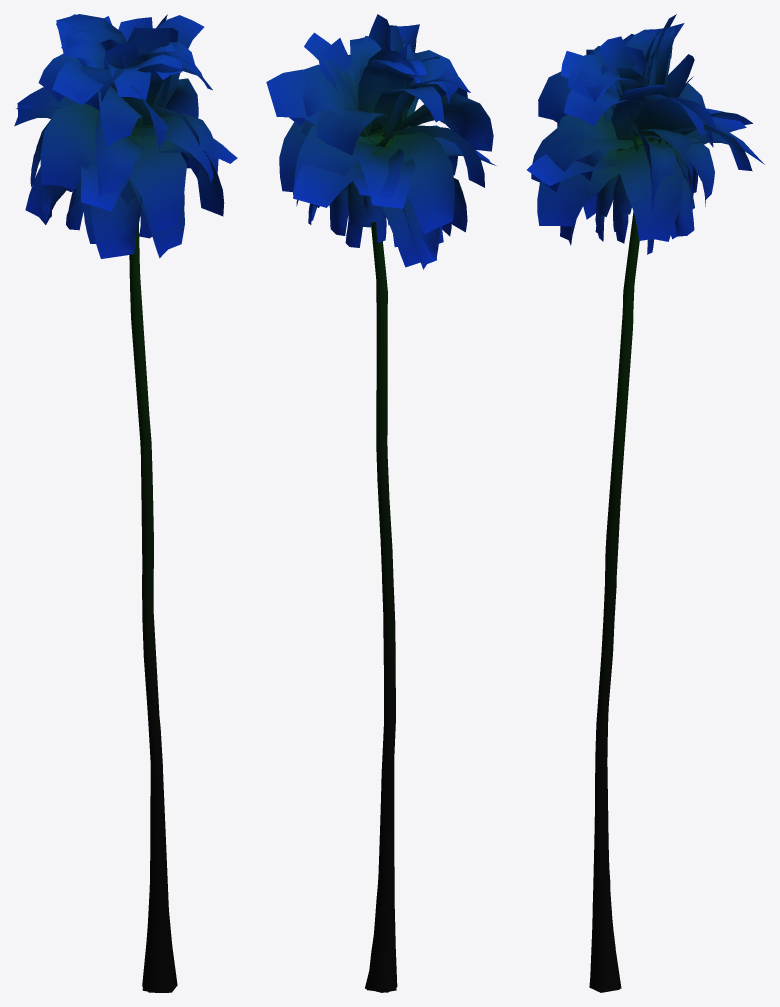
The model's file is MSH_Mexican_Palm_A.FBX.
The picture shows the model from 3 angles, left to right: view 1: azimuth 30°, elevation 25°; view 2: azimuth 150°, elevation 25°; view 3: azimuth 270°, elevation 25°; orthographic projection. The views are drawn at different scales.
Visible parts, largest first — view 1: MexicanFanPalm_A_LOD0_GEO, MexicanFanPalm_A_LOD2_GEO, MexicanFanPalm_A_LOD1_GEO; view 2: MexicanFanPalm_A_LOD0_GEO, MexicanFanPalm_A_LOD2_GEO, MexicanFanPalm_A_LOD1_GEO; view 3: MexicanFanPalm_A_LOD0_GEO, MexicanFanPalm_A_LOD2_GEO, MexicanFanPalm_A_LOD1_GEO.
Boxes of the visible parts, x1,y1,x2,y2 form: MexicanFanPalm_A_LOD0_GEO: (14,14,237,992); MexicanFanPalm_A_LOD2_GEO: (30,14,223,992); MexicanFanPalm_A_LOD1_GEO: (130,226,172,981); MexicanFanPalm_A_LOD0_GEO: (266,14,496,992); MexicanFanPalm_A_LOD2_GEO: (266,25,491,992); MexicanFanPalm_A_LOD1_GEO: (367,223,395,992); MexicanFanPalm_A_LOD0_GEO: (527,14,763,992); MexicanFanPalm_A_LOD2_GEO: (537,17,764,992); MexicanFanPalm_A_LOD1_GEO: (592,144,639,988).
Bounding box in the file's own units: 318 × 1663 × 382.
